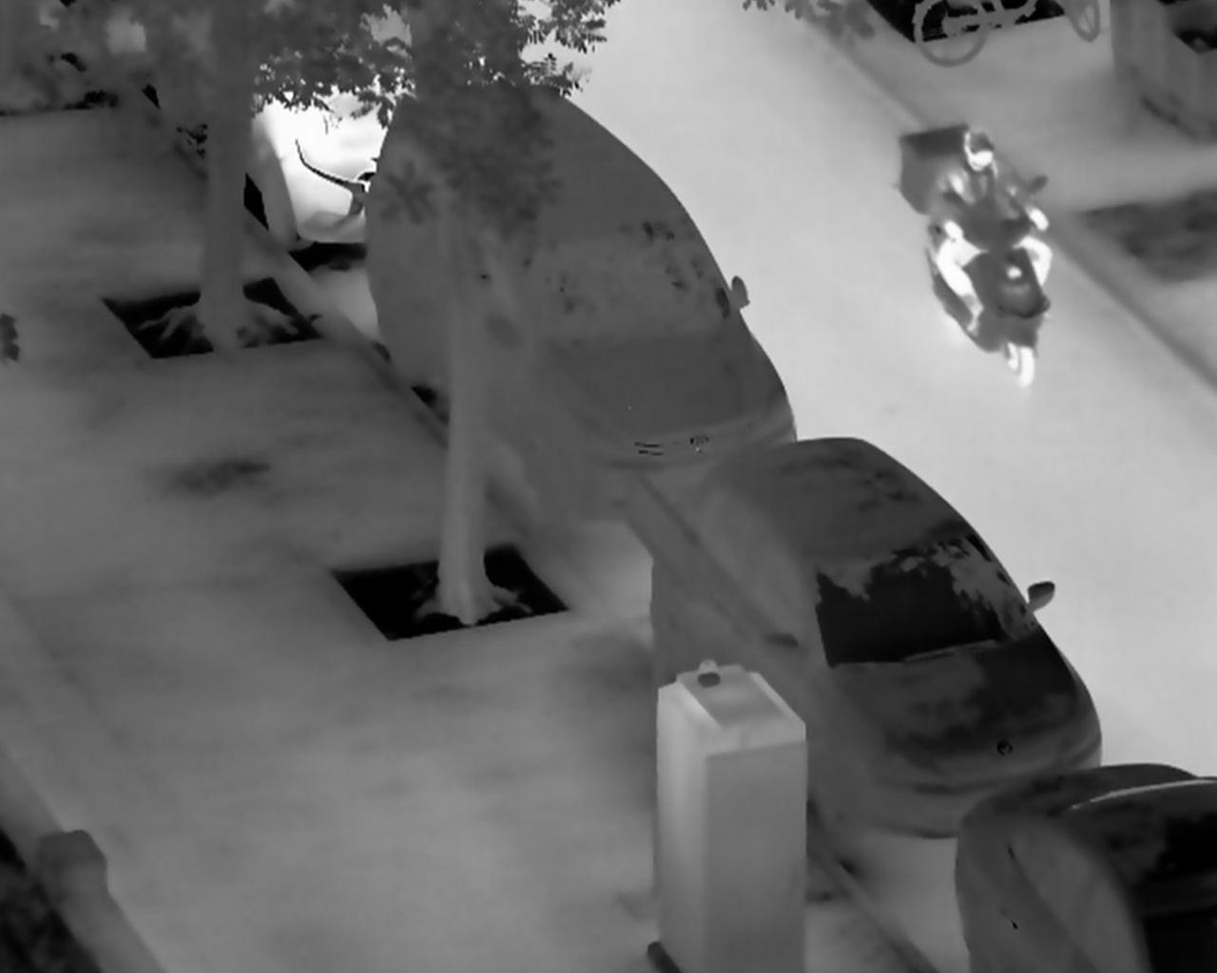person: (931, 130, 1057, 334)
